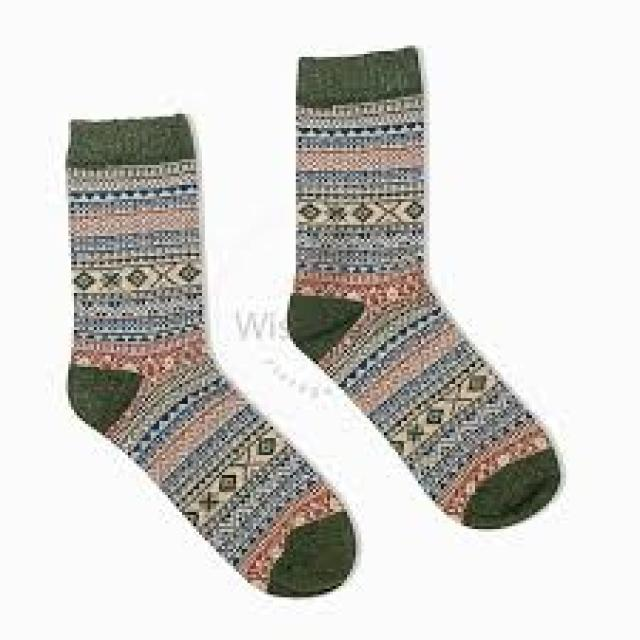sock: (62, 111, 358, 597), (288, 43, 560, 529)
